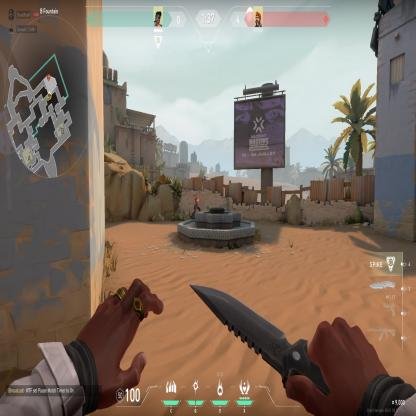enemy: (191, 194, 201, 219)
